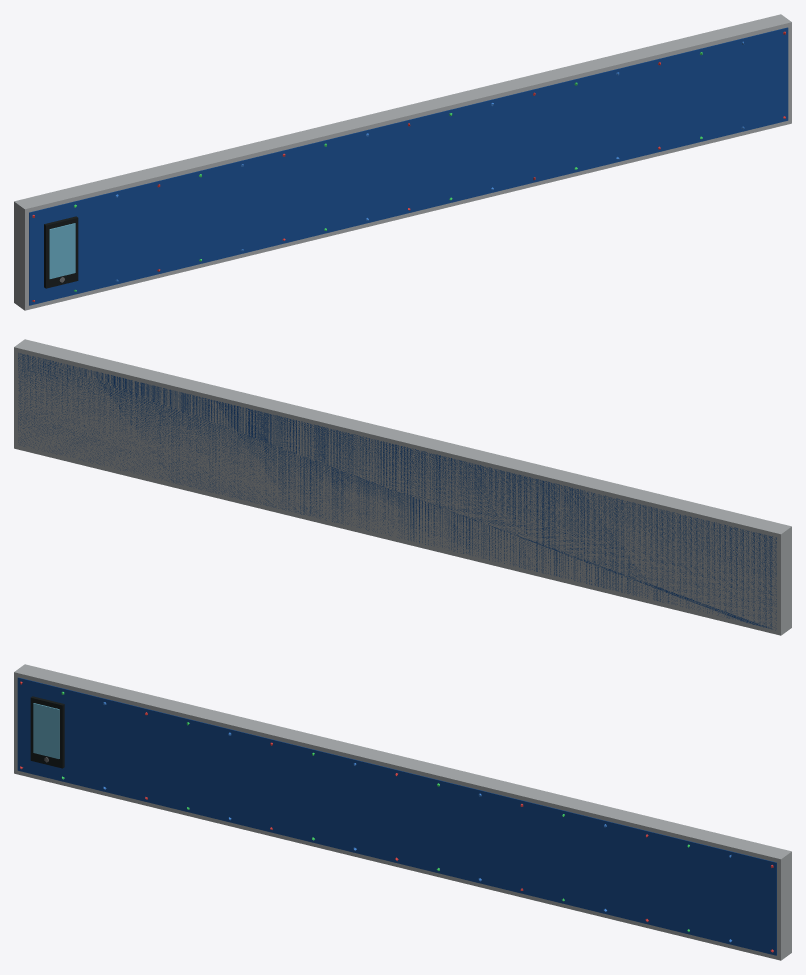
File: bang_sua_dien_thoai_tuan_60.glb
3 views of the same model, one above another, from view 1: azimuth 30°, elevation 25°; view 2: azimuth 150°, elevation 25°; view 3: azimuth 330°, elevation 25° (orthographic).
Visible parts, largest first — view 1: bang_sua_dien_thoai_tuan_60; view 2: bang_sua_dien_thoai_tuan_60; view 3: bang_sua_dien_thoai_tuan_60.
Boxes of the visible parts, <box> form: bang_sua_dien_thoai_tuan_60: <box>14,14,791,310</box>; bang_sua_dien_thoai_tuan_60: <box>14,339,791,635</box>; bang_sua_dien_thoai_tuan_60: <box>14,664,791,960</box>.
Size of the model in its own units: 5.7 by 0.72 by 0.177.
